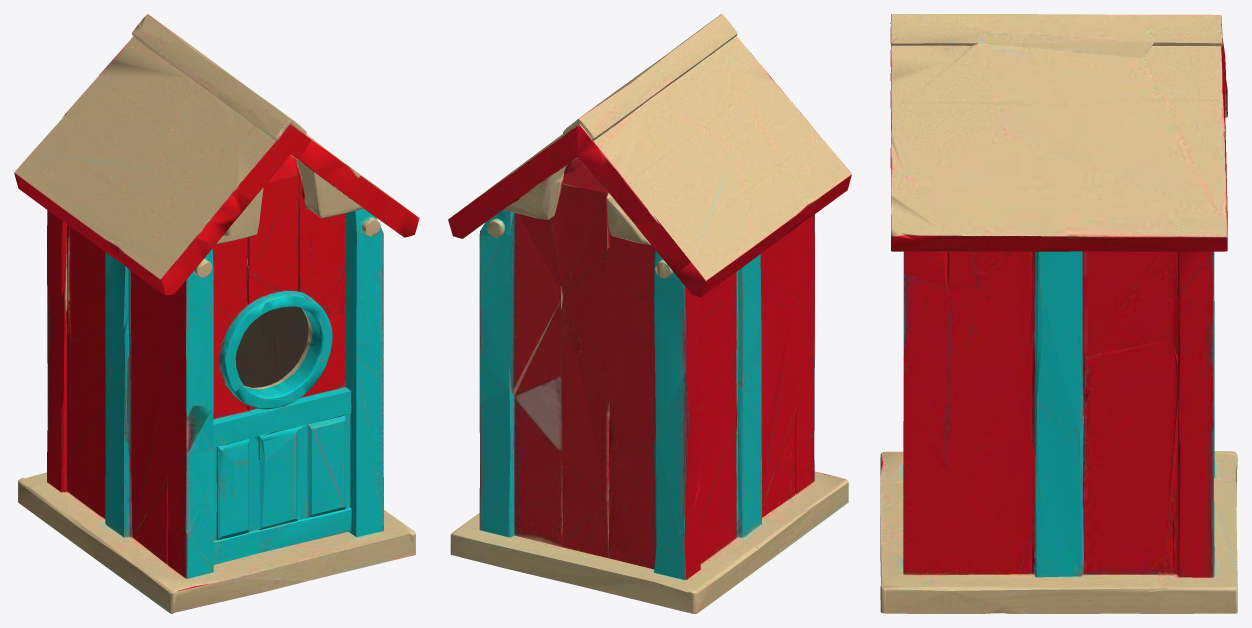
Rendered from birdhouse.glb.
3 views of the same model, side by side, from view 1: azimuth 30°, elevation 25°; view 2: azimuth 150°, elevation 25°; view 3: azimuth 270°, elevation 25° (orthographic). The views are drawn at different scales.
Bounding box in the file's own units: 1.12 × 1.9 × 1.16.
Materials: 1 (1 with a texture image).
